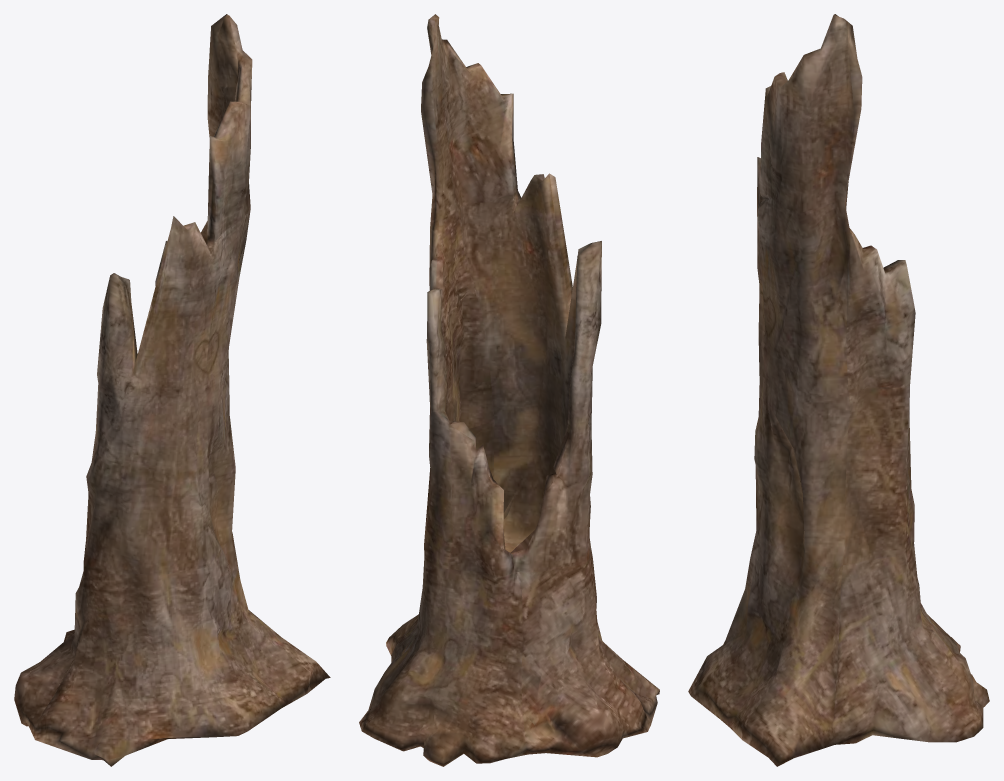
The model's file is dead-trunk.lod0.glb.
The picture shows the model from 3 angles, left to right: view 1: azimuth 30°, elevation 25°; view 2: azimuth 150°, elevation 25°; view 3: azimuth 270°, elevation 25°; orthographic projection. The views are drawn at different scales.
Parts seen in each view (by area): view 1: Trunk_low_Trunk_0; view 2: Trunk_low_Trunk_0; view 3: Trunk_low_Trunk_0.
Boxes of the visible parts, bbox=[...] form: Trunk_low_Trunk_0: bbox=[14, 14, 330, 766]; Trunk_low_Trunk_0: bbox=[359, 14, 659, 766]; Trunk_low_Trunk_0: bbox=[688, 14, 989, 766].
Size of the model in its own units: 1.92 by 4.49 by 1.68.
Materials: 1 (1 with a texture image).
